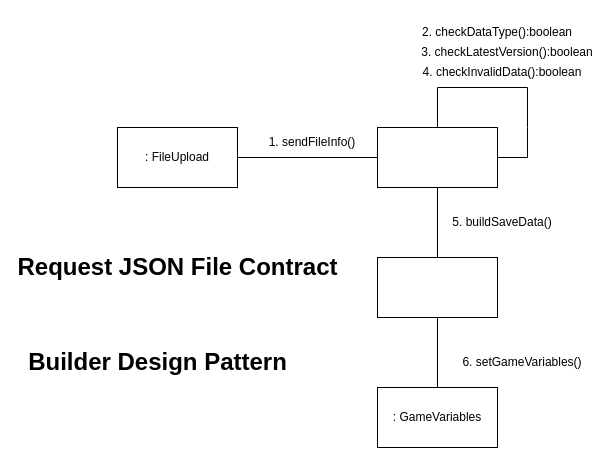
Some shapes in this 614 by 465 pixel diagram are drawn without their labels. The centre of each missing label's shape, as x and y in pixels:
: JSONFileReader: the point at 437,157
: SaveInfo: the point at 437,287
